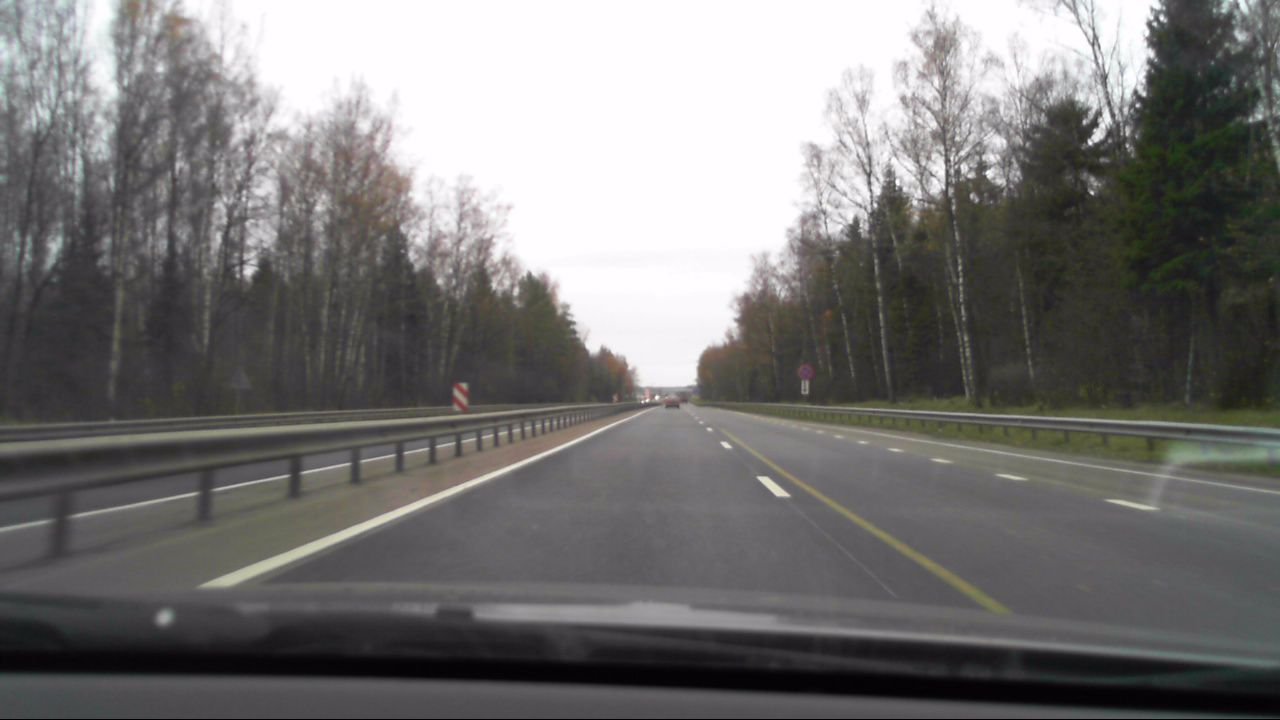No Parking: (794, 362, 813, 379)
